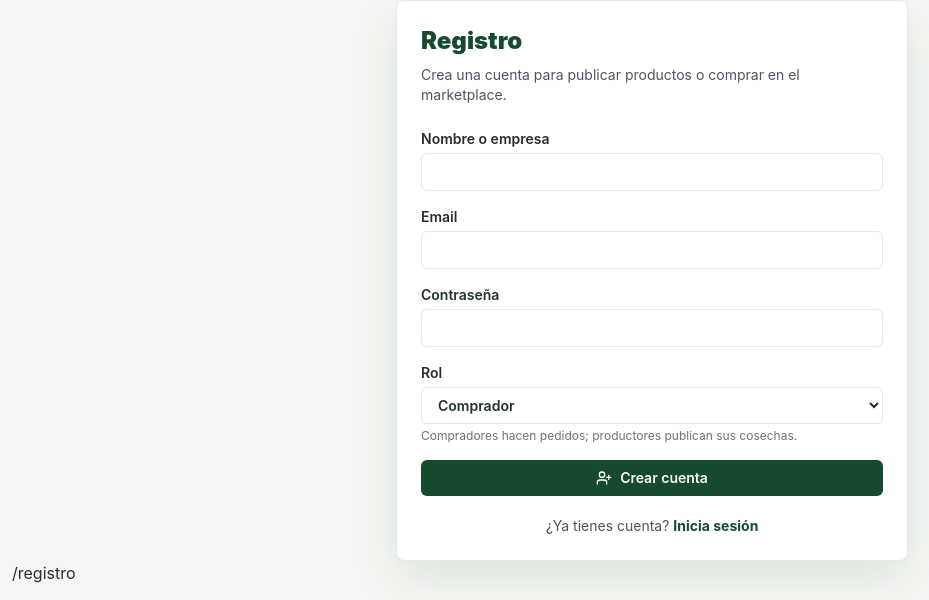
Test: Registro › crea la cuenta, guarda la sesión y lleva al panel del rol
Step 1. Type "Finca El Roble" into the field labelled "Nombre o empresa" → (652, 172), box [421,153,883,191]
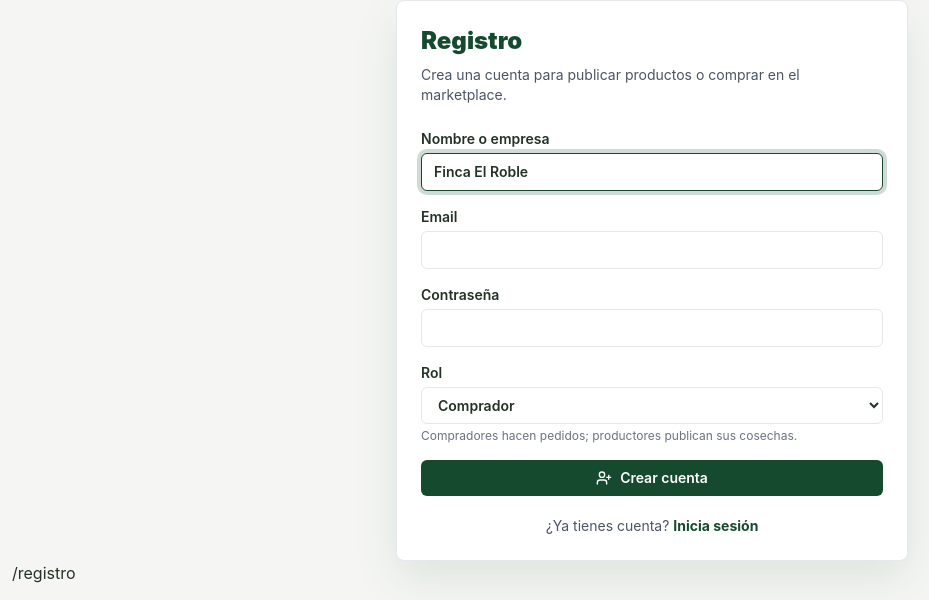
Step 2. Type "finca@example.com" into the field labelled "Email" → (652, 250), box [421,231,883,269]
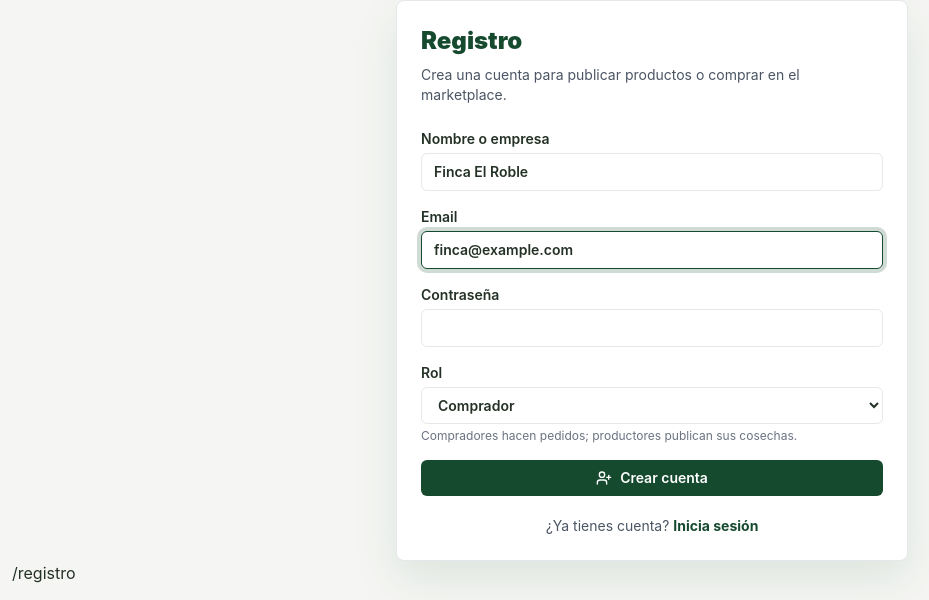
Step 3. Type "secreta1" into the password field labelled "Contraseña" → (652, 328), box [421,309,883,347]
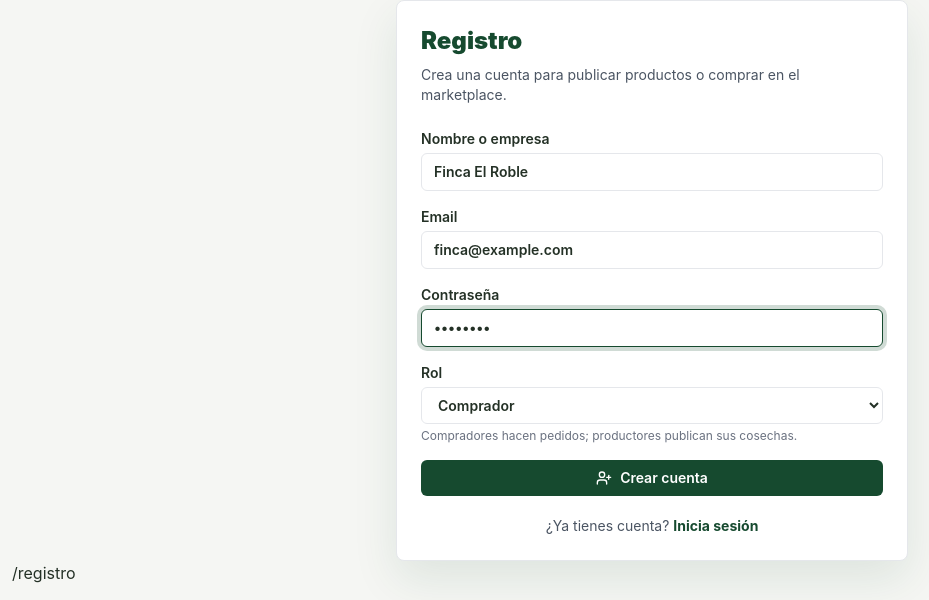
Step 4. Select "Productor" in the dropdown labelled "Rol" → (652, 406), box [421,387,883,424]
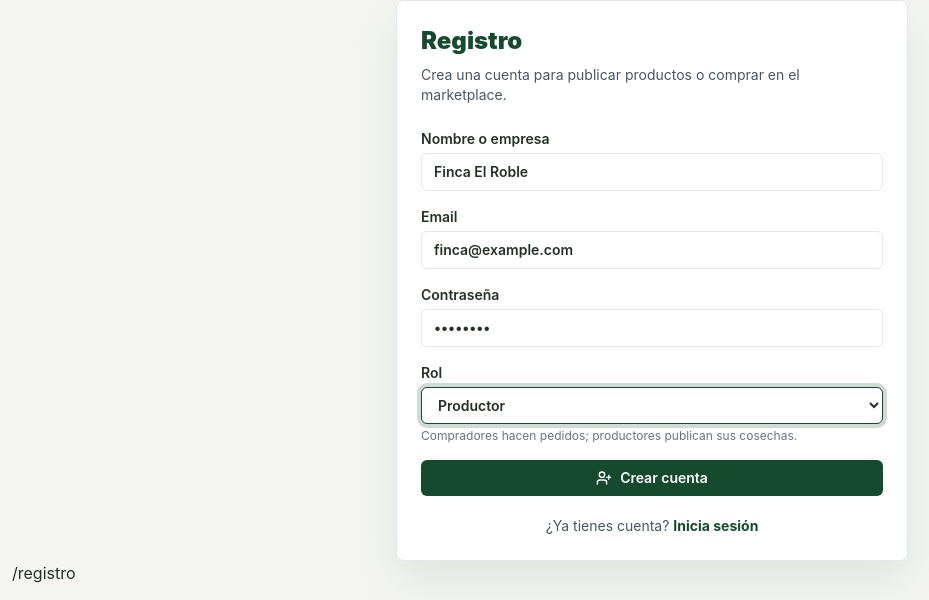
Step 5. Click the button "Crear cuenta" → (652, 478), box [421,460,883,496]
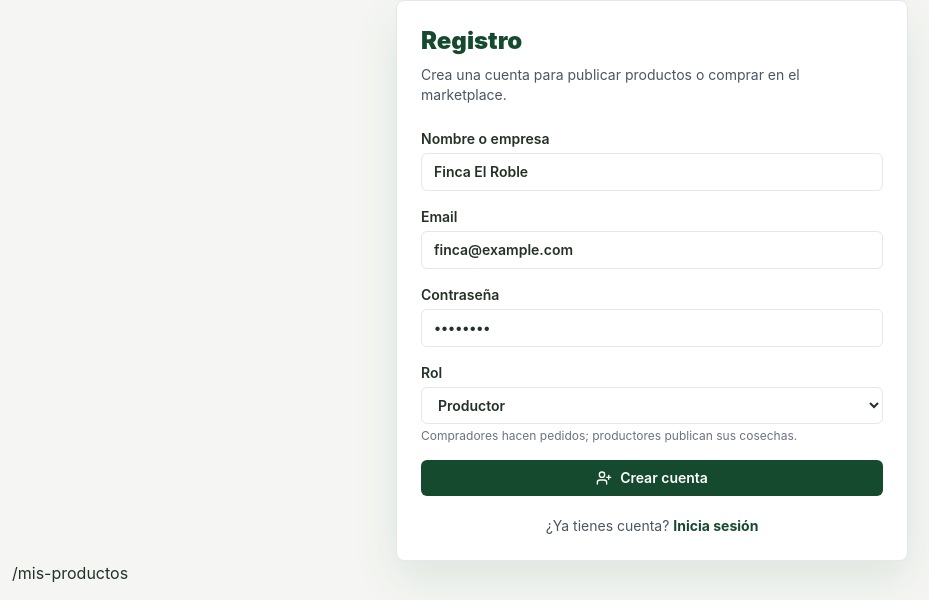
Expected: the text with test id "location" reads "/mis-productos", [12,563,128,583]
